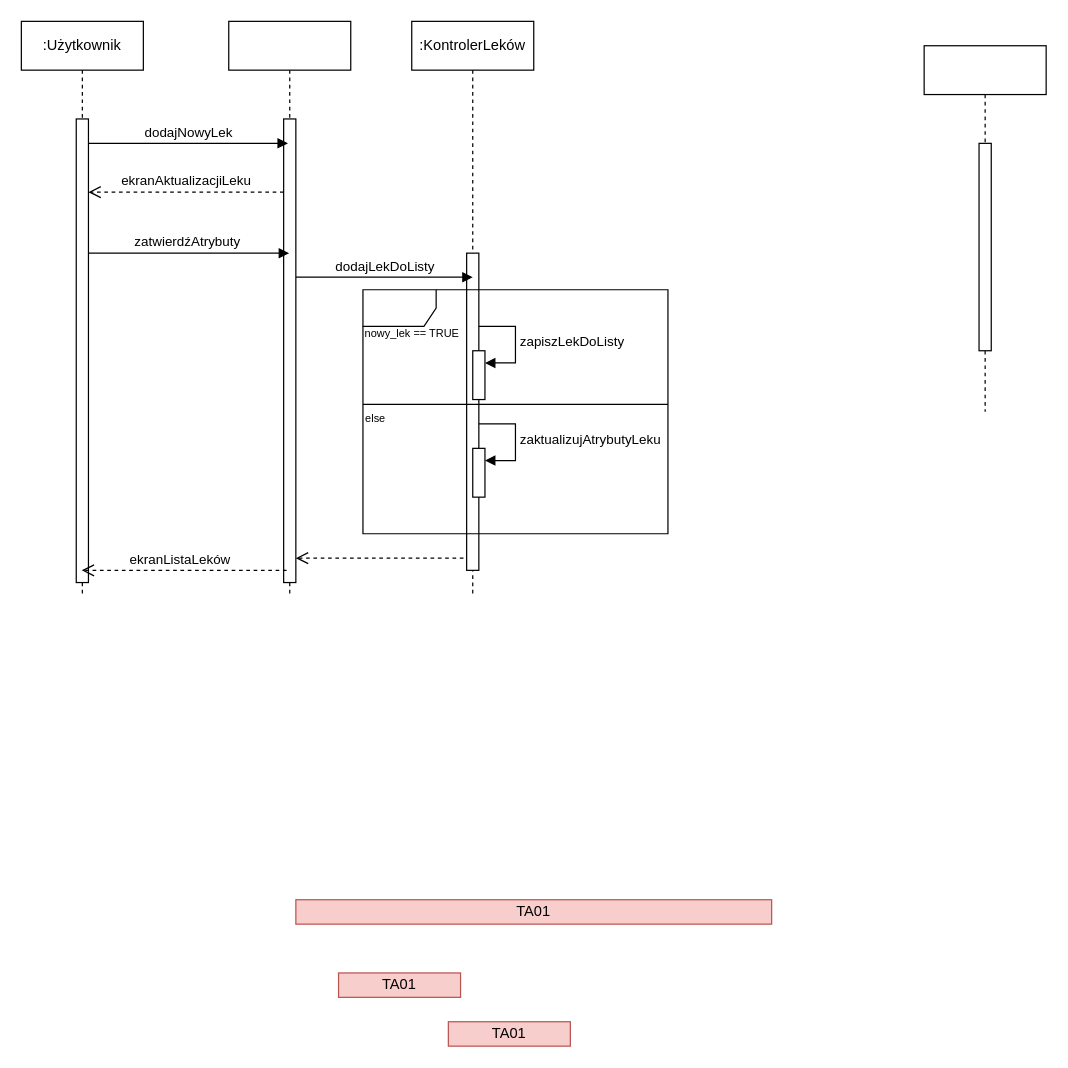
This 1068x1068 diagram has some shape labels left out. Each missing label, with the box of its shape:
:KontrolerSilnika: (923, 45, 1046, 412)
:UI: (228, 20, 351, 595)
alt: (362, 289, 668, 534)
